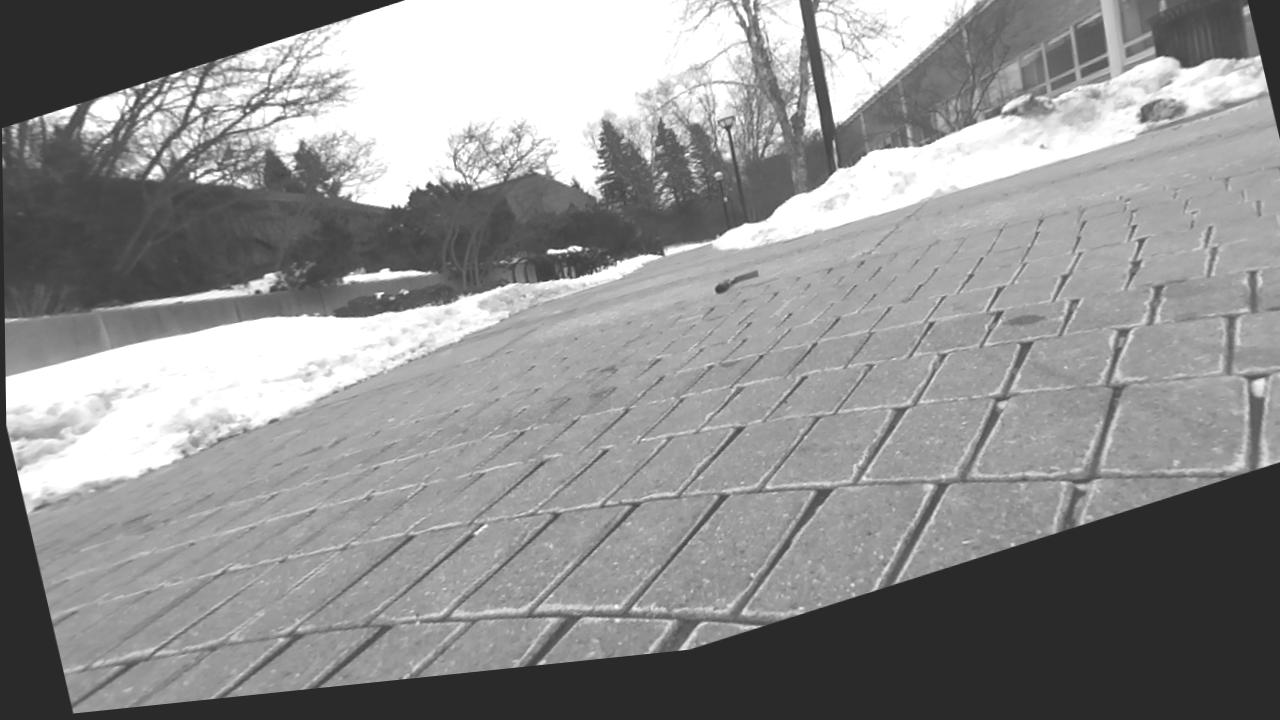pick: (716, 270, 758, 293)
